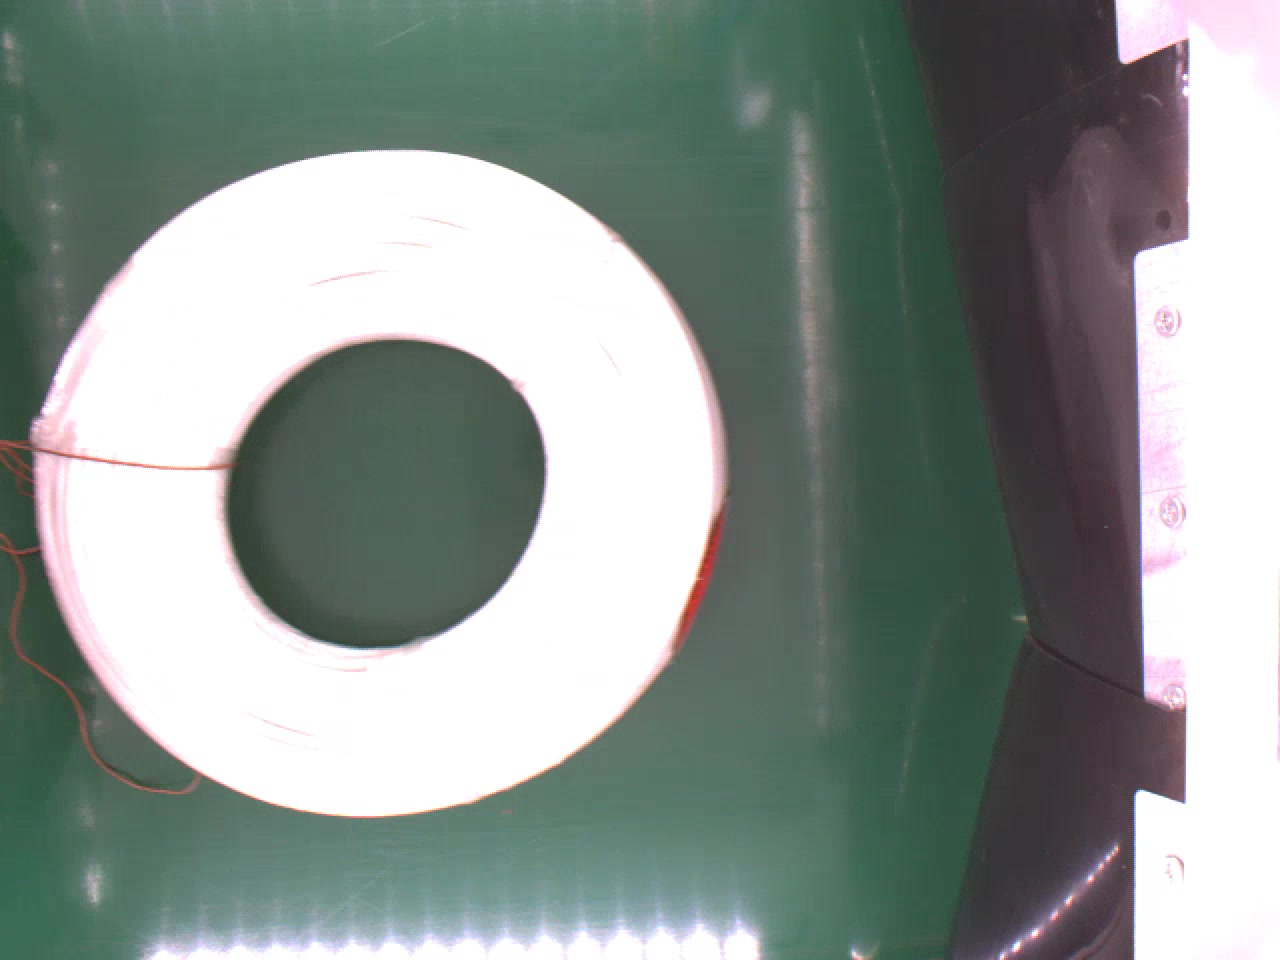white: (28, 145, 738, 817)
